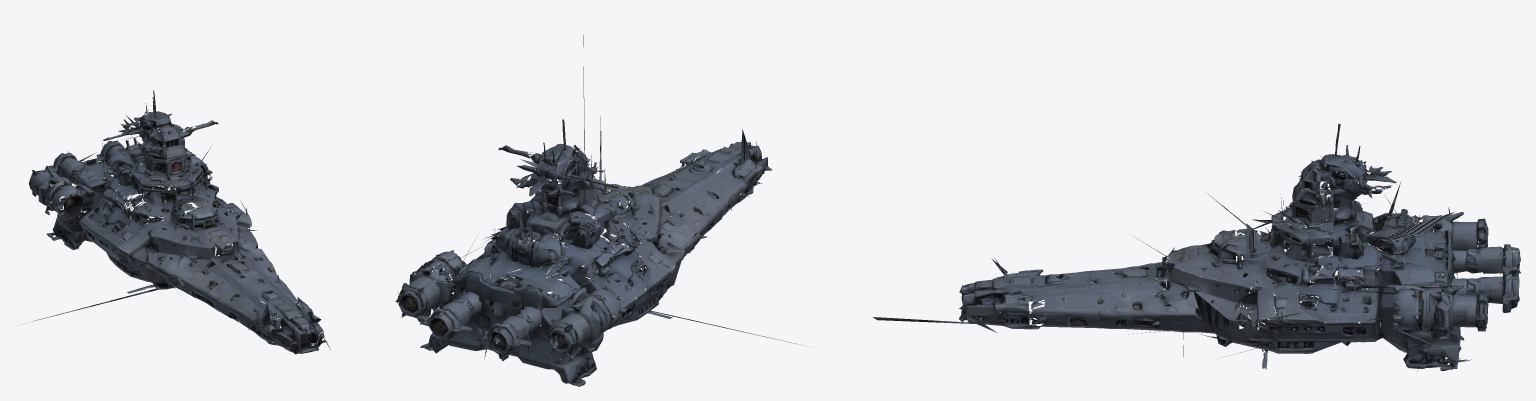
File: battle_ship-v1.glb
3 views of the same model, side by side, from view 1: azimuth 30°, elevation 25°; view 2: azimuth 150°, elevation 25°; view 3: azimuth 270°, elevation 25° (orthographic). The views are drawn at different scales.
Parts seen in each view (by area): view 1: tripo_node_89f6504a-a0aa-4c24-9190-7a0af2fb0bf7; view 2: tripo_node_89f6504a-a0aa-4c24-9190-7a0af2fb0bf7; view 3: tripo_node_89f6504a-a0aa-4c24-9190-7a0af2fb0bf7.
Part boxes in pixels (left/top/right/bottom): tripo_node_89f6504a-a0aa-4c24-9190-7a0af2fb0bf7: left=23, top=90, right=330, bottom=354; tripo_node_89f6504a-a0aa-4c24-9190-7a0af2fb0bf7: left=395, top=35, right=800, bottom=386; tripo_node_89f6504a-a0aa-4c24-9190-7a0af2fb0bf7: left=873, top=123, right=1521, bottom=371.
Bounding box in the file's own units: 0.7123 × 0.6744 × 1.19.
1 material, 1 textured.
